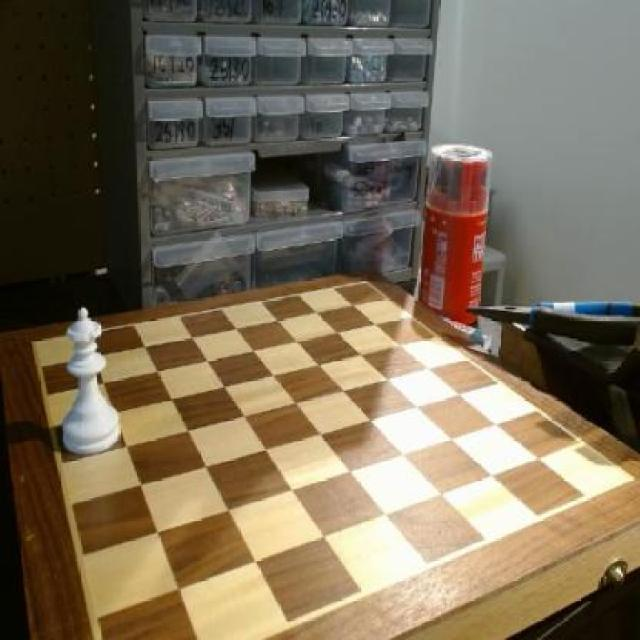white-pawn: (57, 303, 121, 459)
